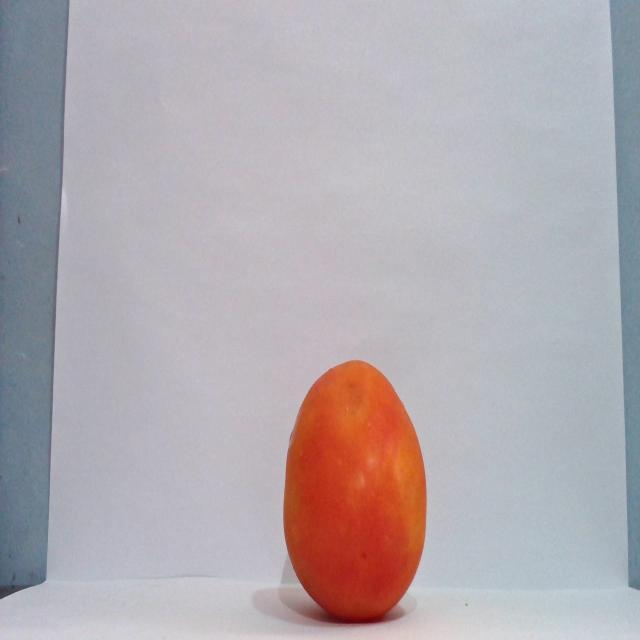Red: (281, 358, 428, 622)
